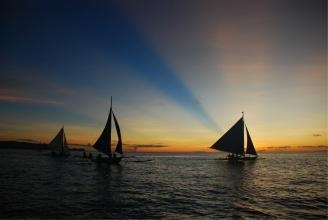fanchuan: (205, 109, 267, 171), (82, 100, 137, 168), (36, 126, 73, 162)
